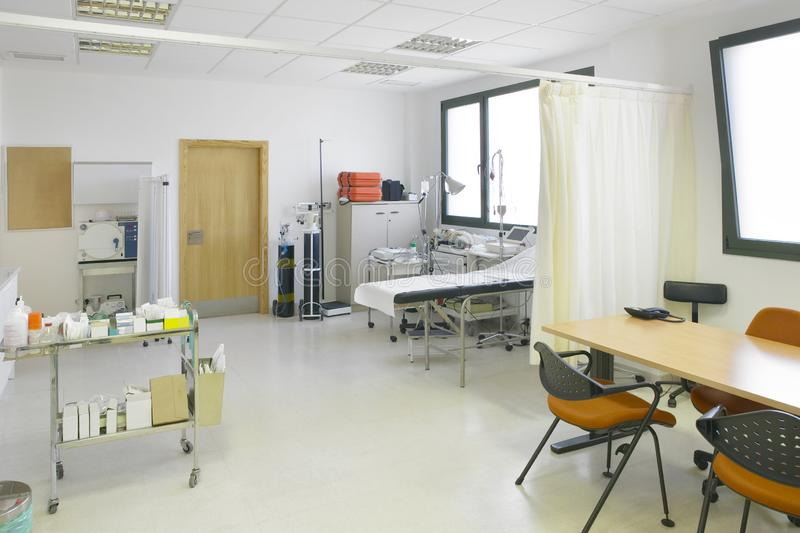cabinet: (336, 196, 420, 299)
chair: (513, 342, 679, 530), (694, 403, 800, 533), (690, 306, 800, 429), (655, 279, 731, 408)
curtain: (531, 78, 701, 370), (134, 176, 165, 305)
door_handle: (189, 231, 203, 245)
handle: (374, 211, 386, 215), (390, 211, 400, 214)
hospital_bed: (352, 243, 544, 390)
iv_pole: (476, 150, 531, 352)
medical_drawer: (428, 244, 523, 339)
table: (545, 306, 800, 454)
telephone: (623, 304, 686, 324)
utility_cart: (1, 303, 224, 511), (367, 246, 433, 344)
waste_bin: (1, 478, 34, 533)
